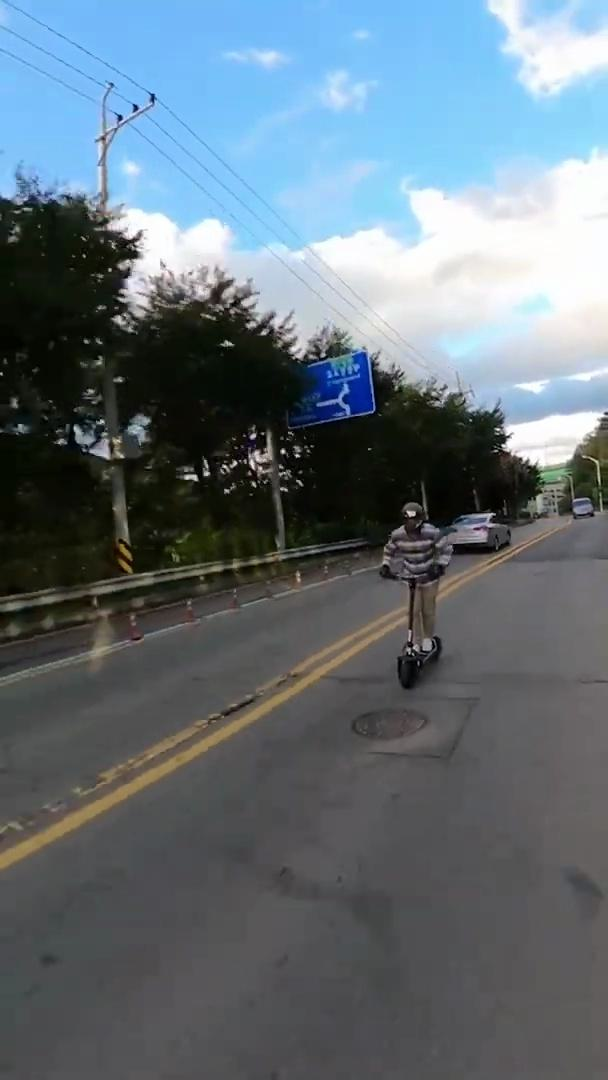helmet: (376, 498, 450, 693)
